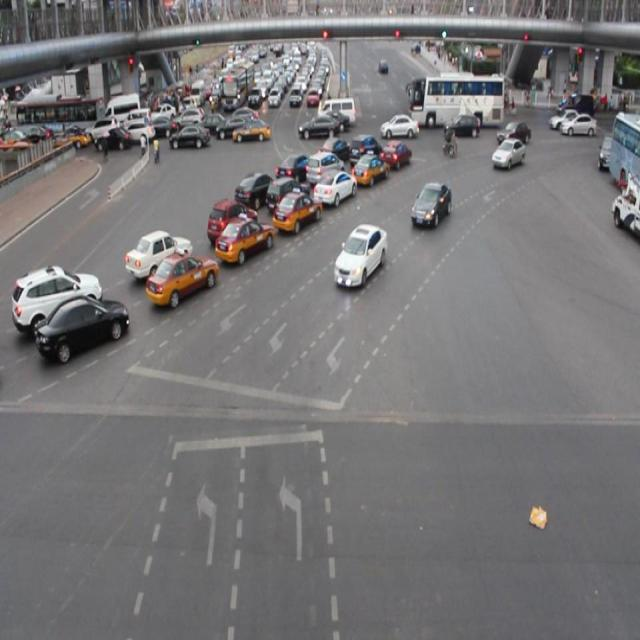car: (33, 296, 132, 366), (11, 266, 104, 335), (143, 253, 221, 309), (331, 221, 389, 292), (123, 227, 194, 279), (213, 214, 276, 264), (205, 194, 257, 245), (408, 179, 454, 231), (270, 189, 323, 233), (263, 174, 311, 212), (312, 170, 358, 208), (234, 169, 276, 210), (349, 149, 392, 189), (302, 149, 344, 188), (489, 134, 526, 174), (273, 150, 315, 185), (376, 134, 413, 173), (346, 131, 382, 169), (318, 133, 352, 168)
